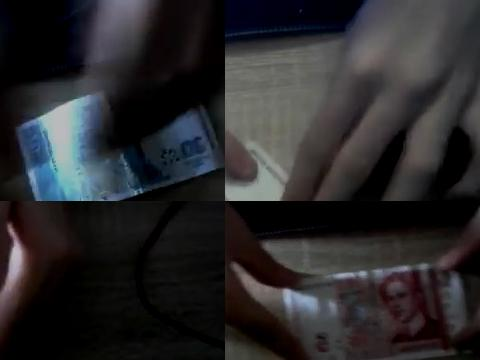20leva: (22, 103, 225, 201)
5leva: (380, 269, 443, 347)
